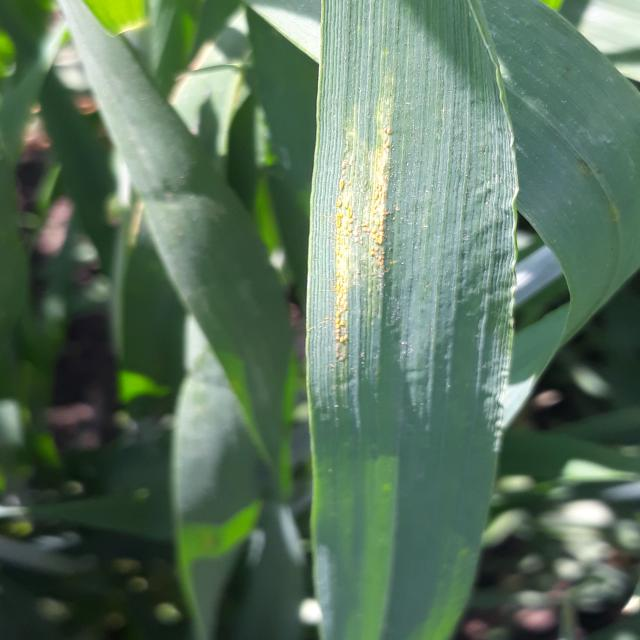yellow_rust: (302, 11, 527, 474)
